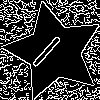I: (29, 26, 70, 70)
